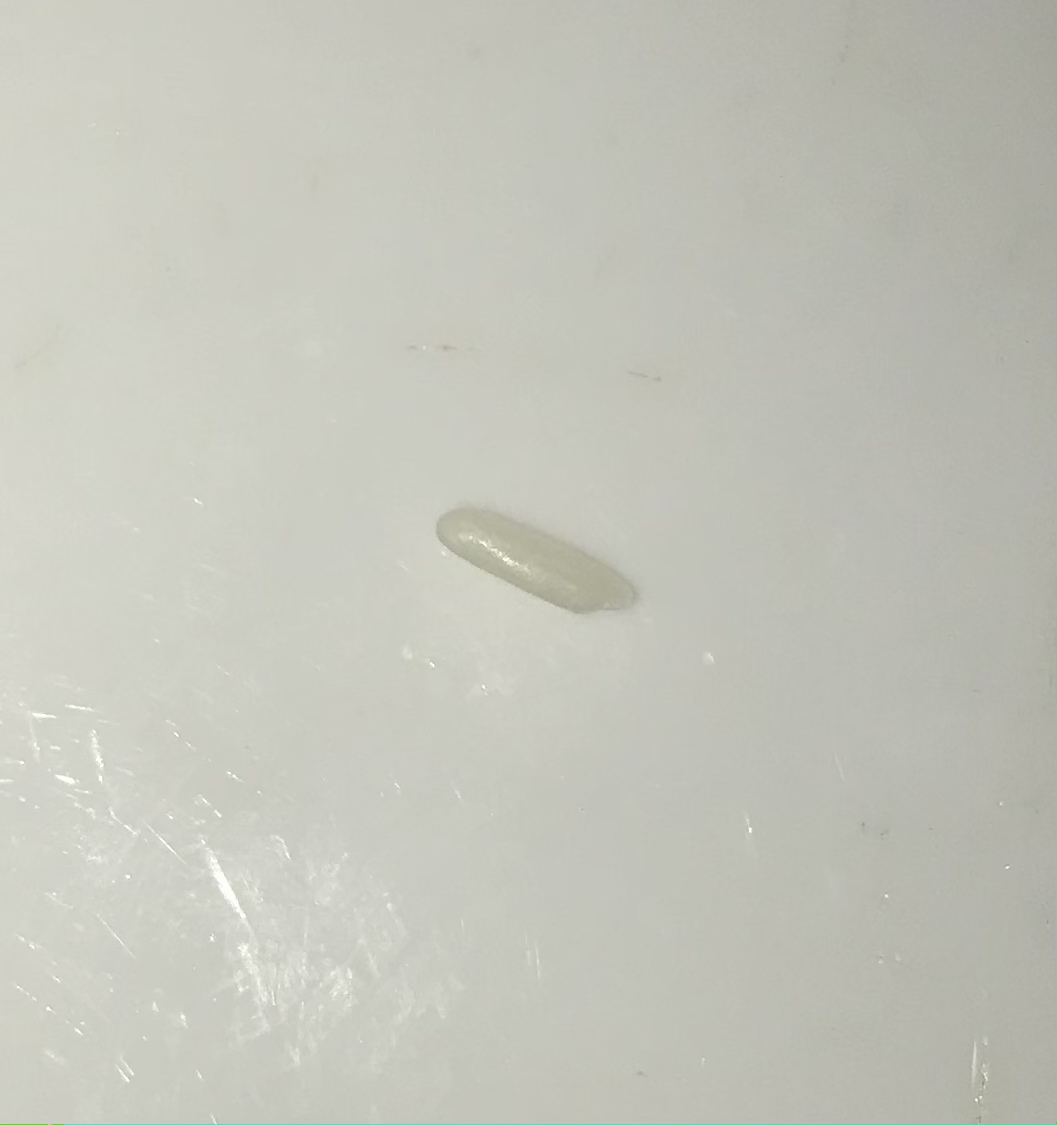Gao Ngoc Troi: (408, 467, 654, 657)
